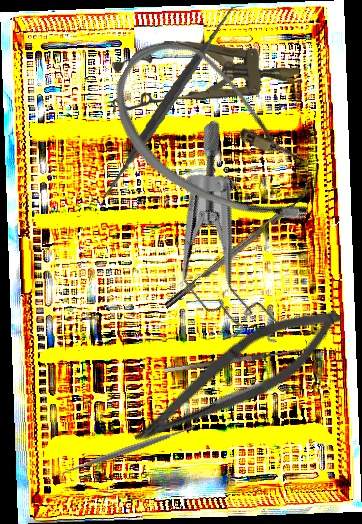Cannula: (87, 22, 351, 249)
Chopper: (158, 182, 315, 309)
Hook Surgical: (162, 339, 309, 374)
Micro Scissor: (123, 285, 352, 471)
Spatula Surgical: (72, 5, 266, 199), (56, 417, 204, 481)
Speculum: (113, 117, 346, 368), (110, 36, 301, 114)
